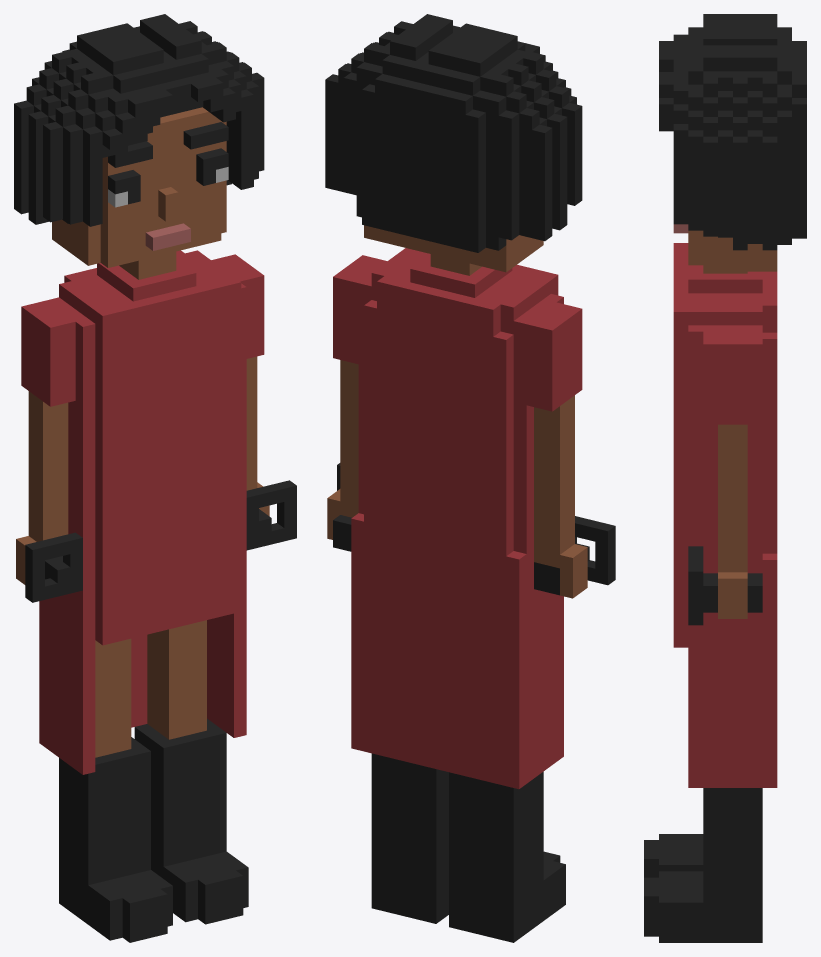
File: auriea.gltf
The picture shows the model from 3 angles, left to right: view 1: azimuth 30°, elevation 25°; view 2: azimuth 150°, elevation 25°; view 3: azimuth 270°, elevation 25°; orthographic projection. The views are drawn at different scales.
Visible parts, largest first — view 1: auriea.vox; view 2: auriea.vox; view 3: auriea.vox.
Boxes of the visible parts, left/top/right/bottom form: auriea.vox: left=14, top=14, right=296, bottom=942; auriea.vox: left=325, top=14, right=615, bottom=942; auriea.vox: left=644, top=14, right=806, bottom=942.
Bounding box in the file's own units: 2.1 × 6.5 × 1.1.
1 material, 1 textured.
